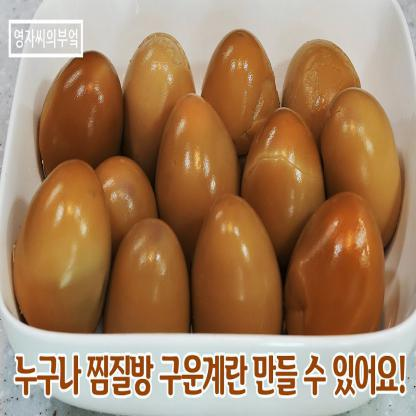egg: (8, 165, 112, 341), (280, 181, 381, 362), (189, 177, 283, 360), (143, 68, 241, 236), (235, 88, 324, 250), (323, 92, 414, 244), (100, 211, 190, 364), (270, 20, 368, 151), (195, 22, 284, 161), (113, 17, 194, 168), (34, 52, 124, 183)
